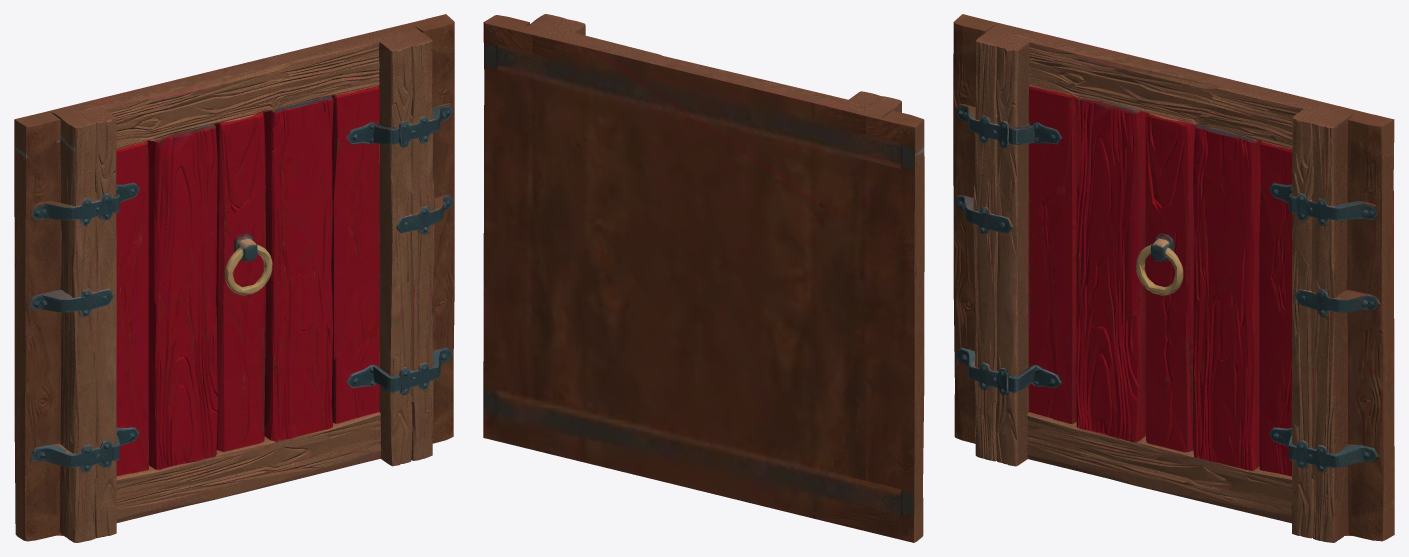
Rendered from door.glb.
3 views of the same model, side by side, from view 1: azimuth 30°, elevation 25°; view 2: azimuth 150°, elevation 25°; view 3: azimuth 330°, elevation 25° (orthographic).
Bounding box in the file's own units: 1.9 × 1.75 × 0.2079.
Materials: 1 (1 with a texture image).
